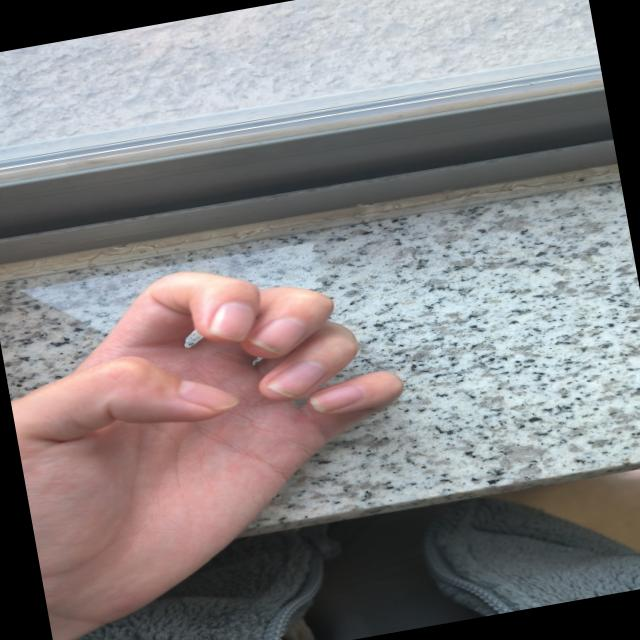Nail: (266, 359, 326, 398), (248, 317, 305, 354), (177, 380, 237, 409), (209, 302, 253, 341), (310, 385, 364, 412)
